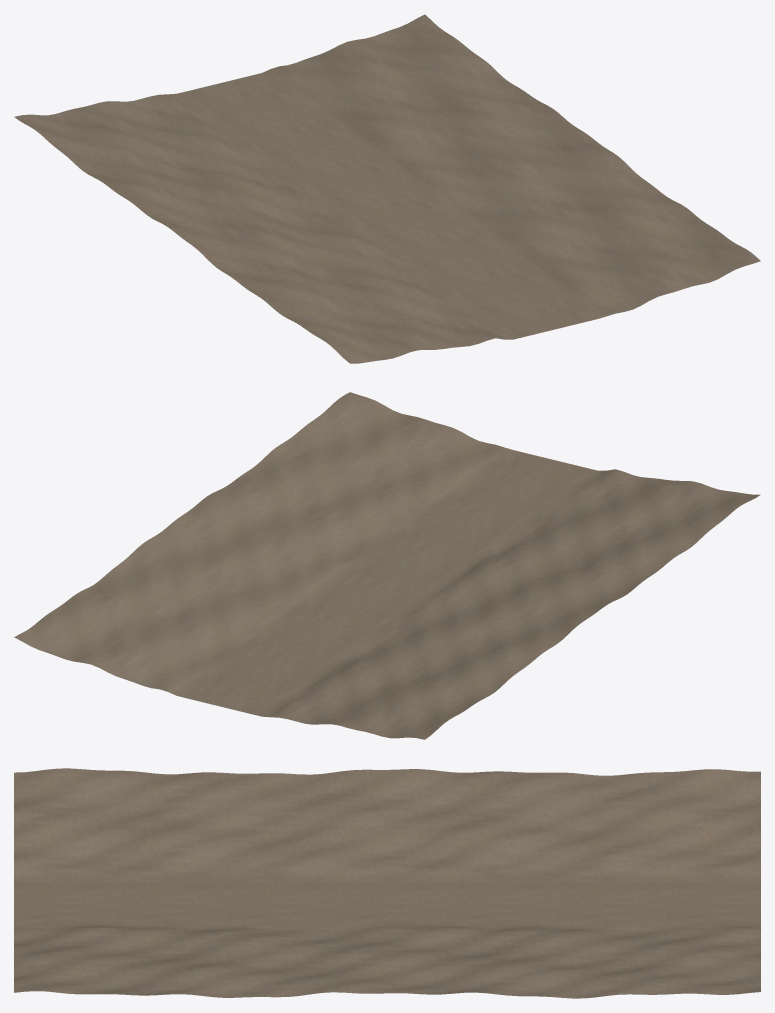
The model's file is sand.glb.
The picture shows the model from 3 angles, top to bottom: view 1: azimuth 30°, elevation 25°; view 2: azimuth 150°, elevation 25°; view 3: azimuth 270°, elevation 25°; orthographic projection. The views are drawn at different scales.
Parts seen in each view (by area): view 1: sand; view 2: sand; view 3: sand.
Part boxes in pixels (bbox=[...]): sand: bbox=[14, 14, 760, 363]; sand: bbox=[14, 392, 760, 739]; sand: bbox=[14, 768, 760, 998].
Size of the model in its own units: 24 by 1.15 by 34.
1 material, 1 textured.
